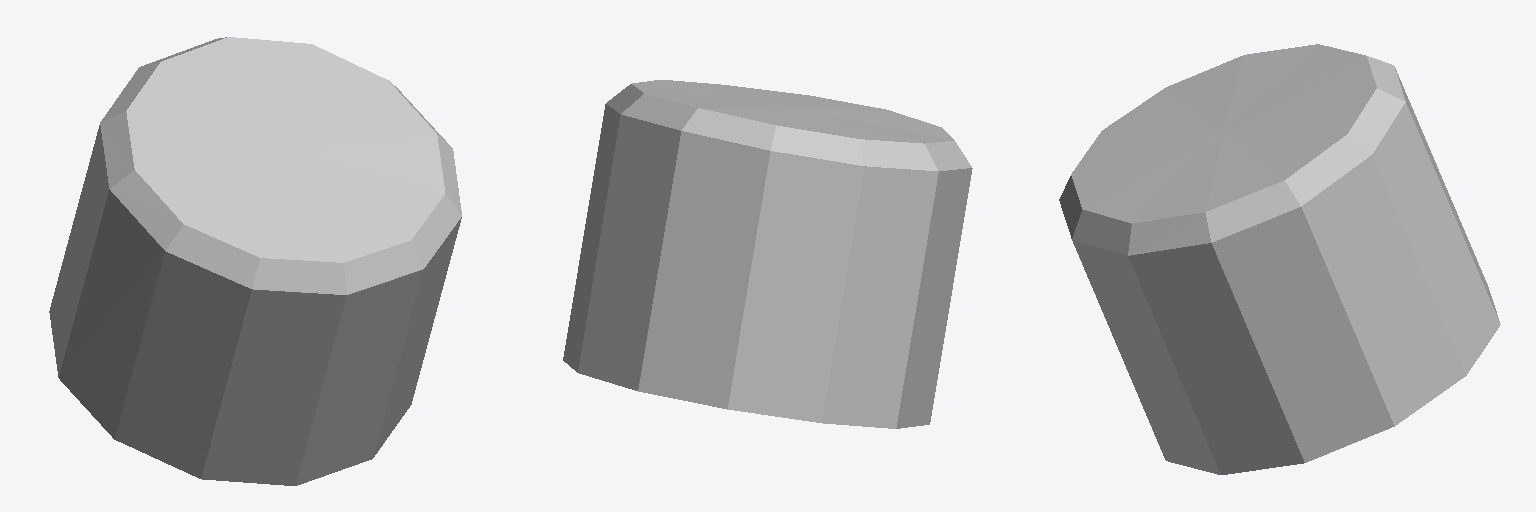
The model's file is led_left.obj.
3 views of the same model, side by side, from view 1: azimuth 30°, elevation 25°; view 2: azimuth 150°, elevation 25°; view 3: azimuth 270°, elevation 25° (orthographic).
Visible parts, largest first — view 1: led; view 2: led; view 3: led.
Part boxes in pixels (left/top/right/bottom): led: left=49, top=37, right=461, bottom=485; led: left=563, top=80, right=972, bottom=428; led: left=1059, top=44, right=1500, bottom=474.
Bounding box in the file's own units: 0.0012 × 0.0013 × 0.0014.